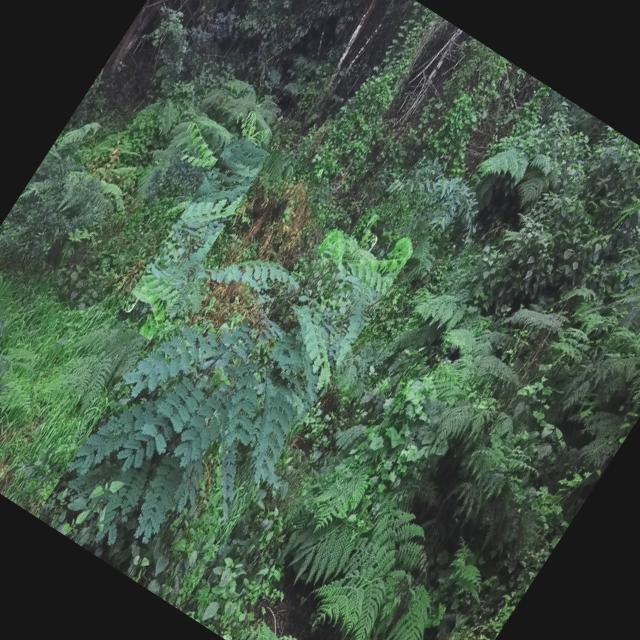Mysore-Thorn-Weed: (35, 148, 418, 610), (114, 131, 309, 366)
